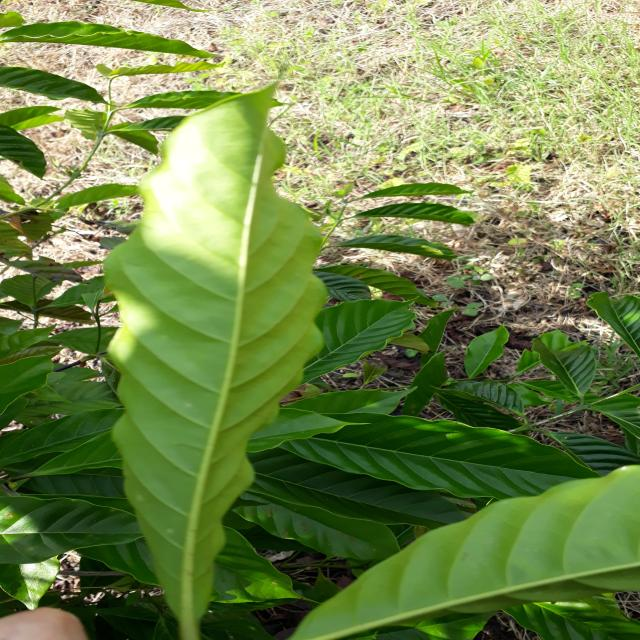Sanas: (104, 87, 330, 640)
